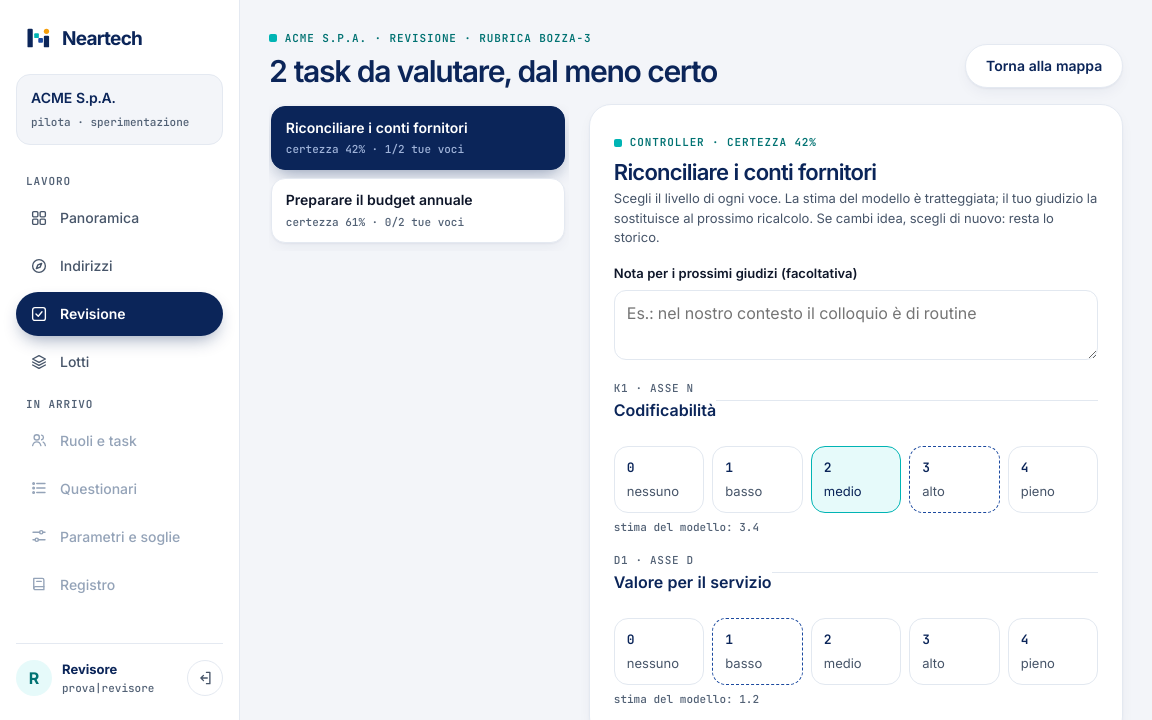
Test: revisione › passa a un altro task della coda
Check: the heading "2 task da valutare, dal meno certo" is shown, box [269,56,717,88]
Click the button "Preparare il budget annuale certezza 61% · 0/2 tue voci".
click(418, 211)  # box [271,178,565,243]
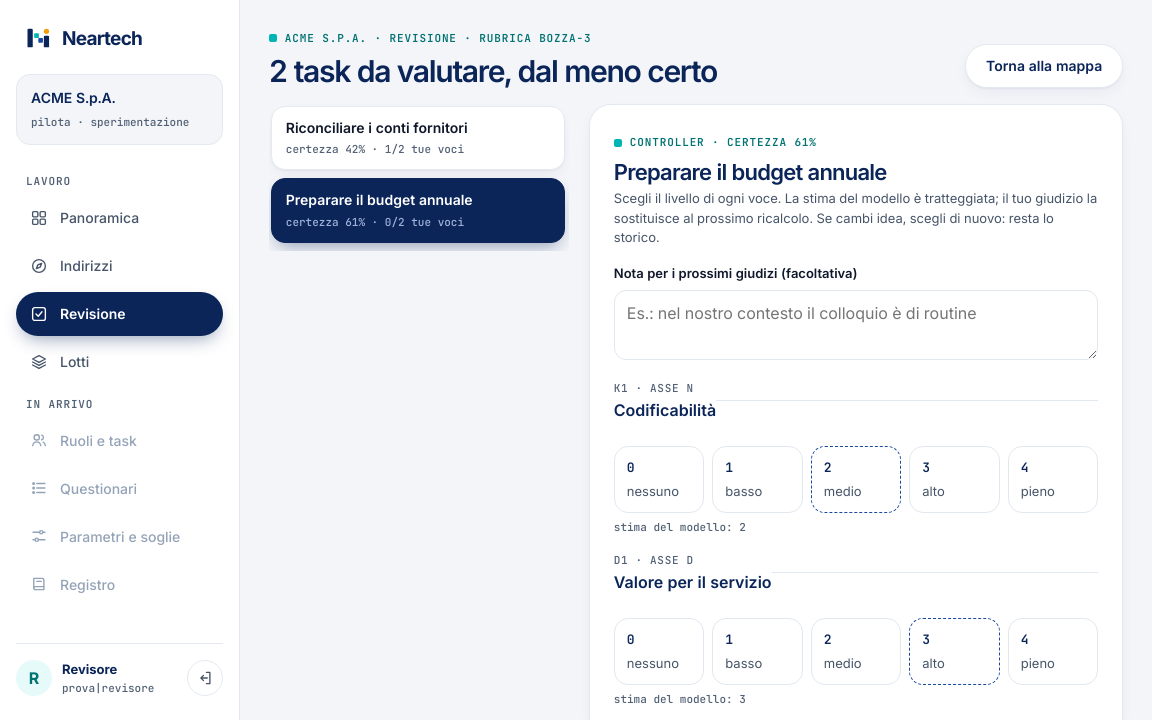
Check: the heading "Preparare il budget annuale" is shown, box [614,159,887,185]
